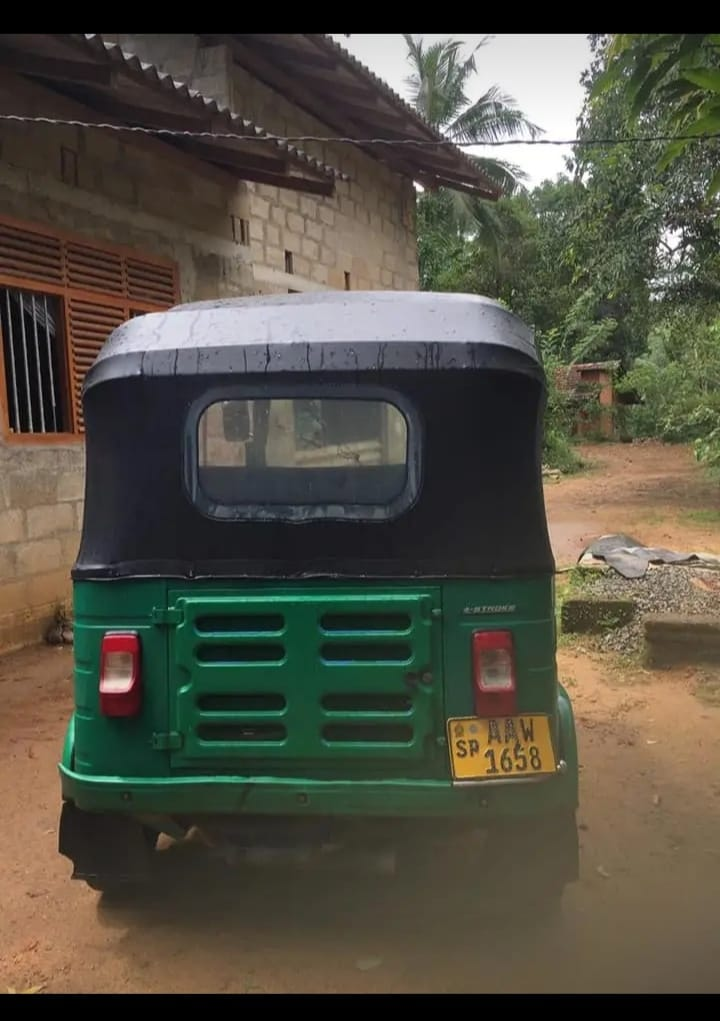number_plate: (448, 713, 556, 779)
